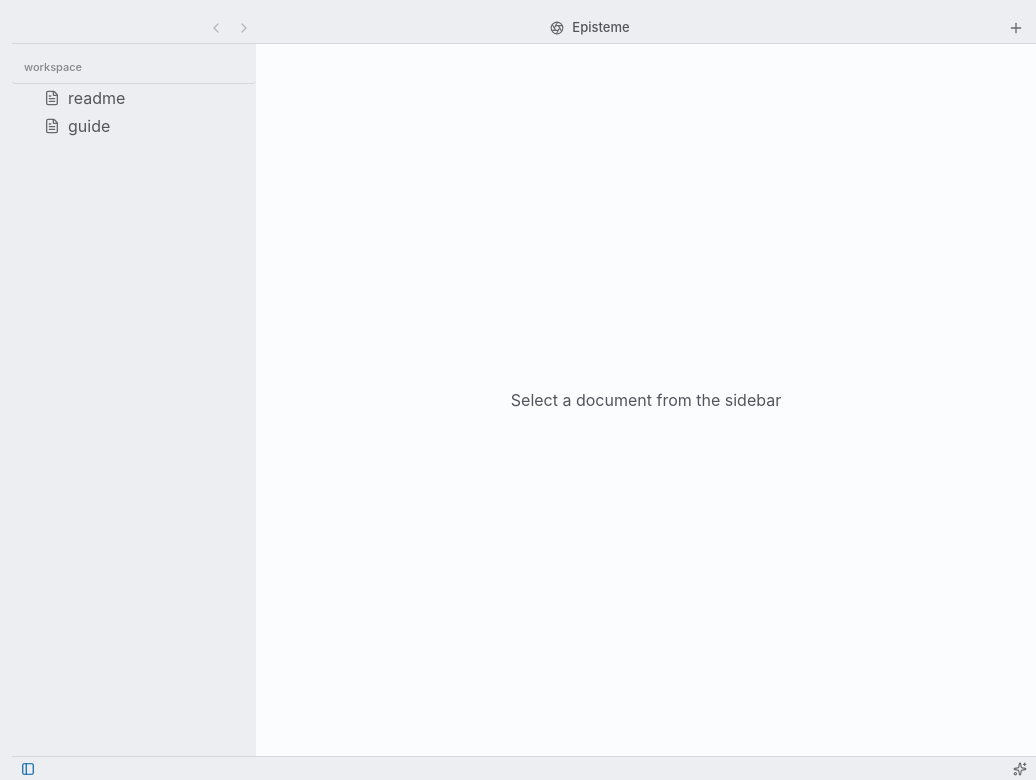
Document viewer integration › file with frontmatter → frontmatter bar shown
The image size is (1036, 780).
Click the list item "readme": point(134, 98) [12, 84, 256, 112]
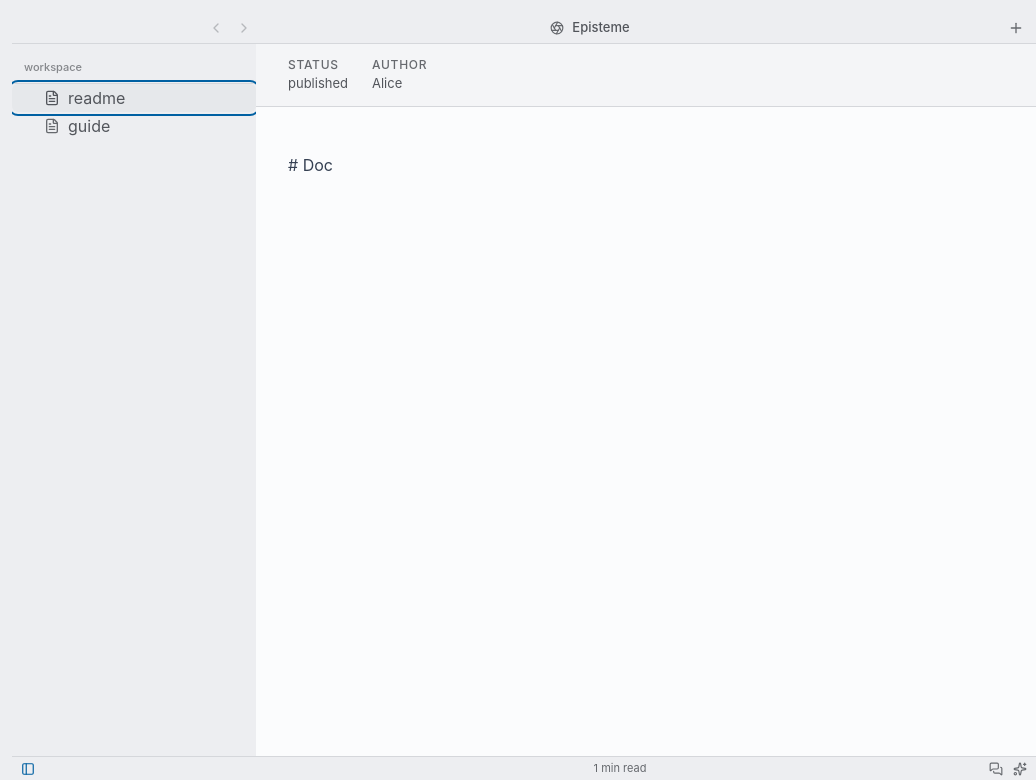
Expected: the text "status" is shown, [288, 57, 339, 72]
Expected: the text "published" is shown, [288, 74, 348, 94]
Expected: the text "author" is shown, [372, 56, 427, 74]
